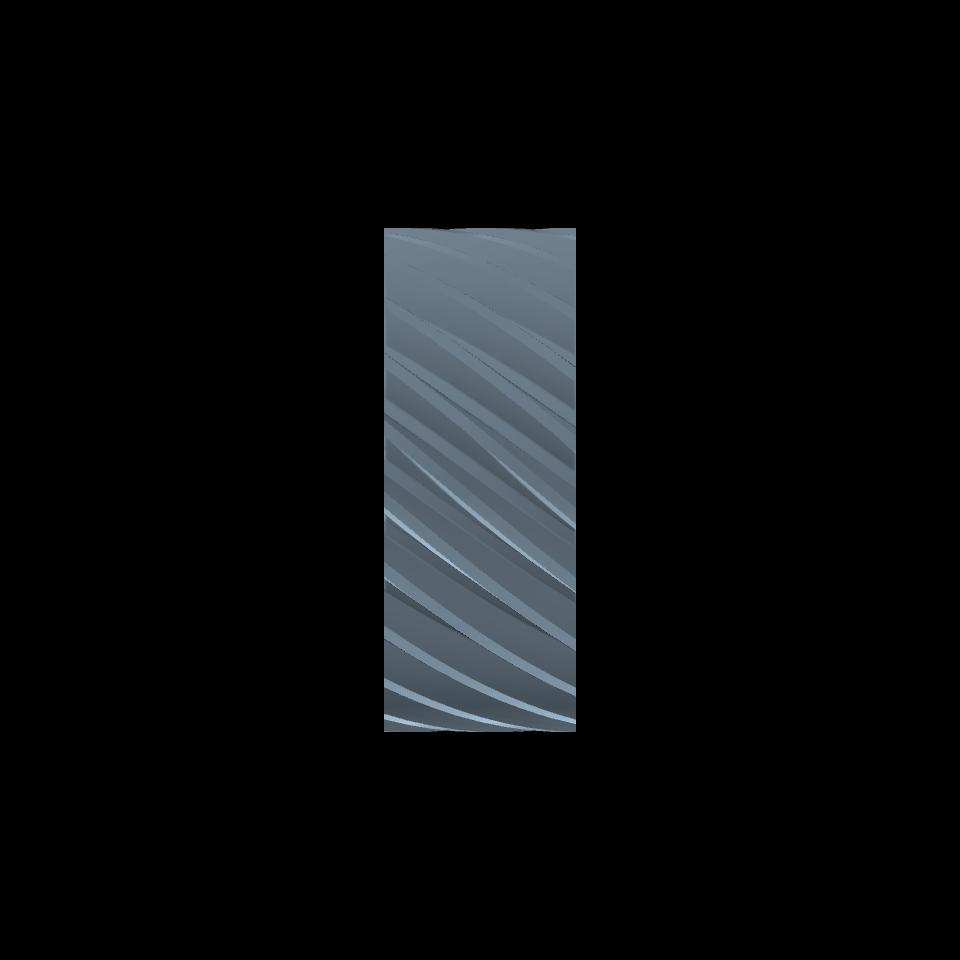Helical: (382, 228, 573, 730)
